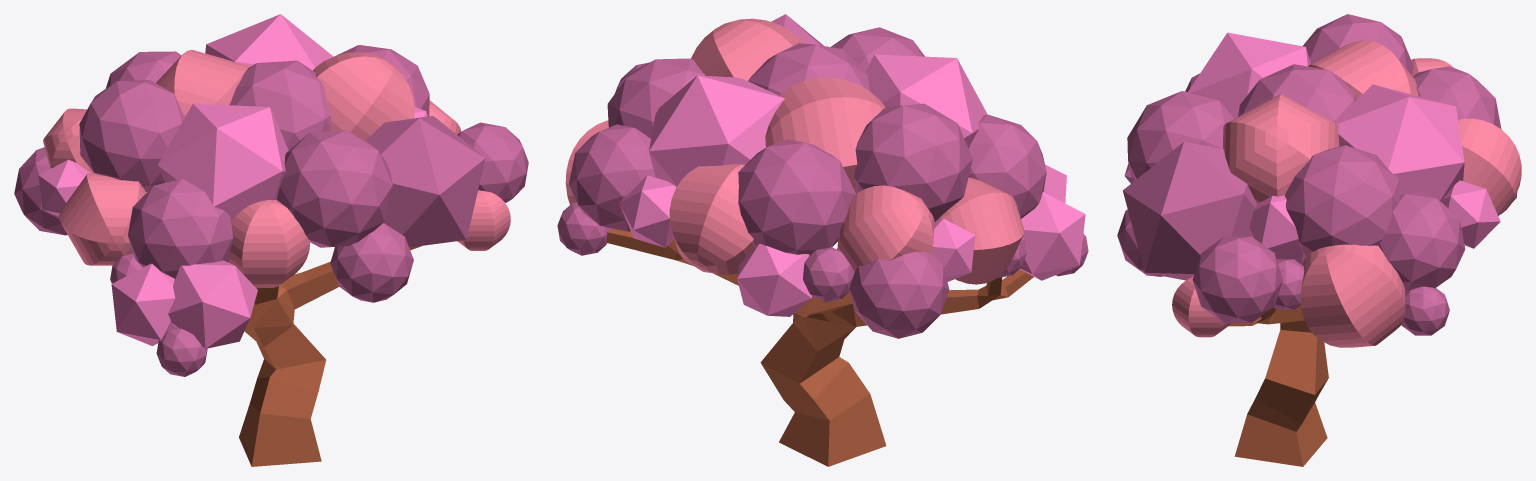
File: Sakura Tree.fbx
3 renders of one model, left to right at view 1: azimuth 30°, elevation 25°; view 2: azimuth 150°, elevation 25°; view 3: azimuth 270°, elevation 25°, orthographic. The views are drawn at different scales.
Visible parts, largest first — view 1: Vert.001, Icosphere.017, Icosphere.013, Icosphere.016, Icosphere.020, Icosphere.015, Sphere.007, Icosphere.019, Sphere.003, Sphere, Icosphere.026, Icosphere.018 (+12 smaller); view 2: Vert.001, Icosphere.023, Icosphere.022, Icosphere.020, Sphere.004, Sphere.006, Icosphere.021, Icosphere.024, Sphere.002, Icosphere.013, Icosphere.015, Sphere.003 (+12 smaller); view 3: Icosphere.017, Vert.001, Icosphere.022, Icosphere.027, Sphere.005, Sphere.007, Icosphere.012, Icosphere.024, Icosphere.016, Icosphere.013, Sphere.004, Icosphere.026 (+10 smaller).
Boxes of the visible parts, bbox=[...] form: Vert.001: bbox=[239, 246, 421, 466]; Icosphere.017: bbox=[365, 116, 485, 247]; Icosphere.013: bbox=[157, 103, 288, 218]; Icosphere.016: bbox=[277, 130, 392, 247]; Icosphere.020: bbox=[79, 80, 184, 192]; Icosphere.015: bbox=[128, 178, 233, 278]; Sphere.007: bbox=[313, 52, 414, 139]; Icosphere.019: bbox=[168, 260, 257, 348]; Sphere.003: bbox=[59, 173, 146, 265]; Sphere: bbox=[228, 200, 310, 287]; Icosphere.026: bbox=[229, 60, 330, 150]; Icosphere.018: bbox=[330, 223, 413, 302]; Vert.001: bbox=[606, 228, 1033, 466]; Icosphere.023: bbox=[738, 139, 855, 254]; Icosphere.022: bbox=[649, 75, 784, 187]; Icosphere.020: bbox=[853, 103, 972, 221]; Sphere.004: bbox=[669, 164, 754, 274]; Sphere.006: bbox=[765, 77, 885, 193]; Icosphere.021: bbox=[849, 251, 949, 338]; Icosphere.024: bbox=[569, 124, 655, 231]; Sphere.002: bbox=[837, 185, 934, 272]; Icosphere.013: bbox=[866, 54, 987, 148]; Icosphere.015: bbox=[968, 114, 1046, 218]; Sphere.003: bbox=[936, 177, 1024, 284]; Icosphere.017: bbox=[1122, 142, 1257, 280]; Vert.001: bbox=[1228, 305, 1328, 466]; Icosphere.022: bbox=[1334, 84, 1464, 201]; Icosphere.027: bbox=[1285, 145, 1401, 257]; Sphere.005: bbox=[1300, 244, 1405, 347]; Sphere.007: bbox=[1223, 94, 1339, 203]; Icosphere.012: bbox=[1192, 236, 1283, 322]; Icosphere.024: bbox=[1378, 192, 1465, 291]; Icosphere.016: bbox=[1127, 91, 1235, 180]; Icosphere.013: bbox=[1188, 32, 1310, 117]; Sphere.004: bbox=[1458, 118, 1521, 215]; Icosphere.026: bbox=[1238, 64, 1357, 122].
Bounding box in the file's own units: 497 × 427 × 409.
